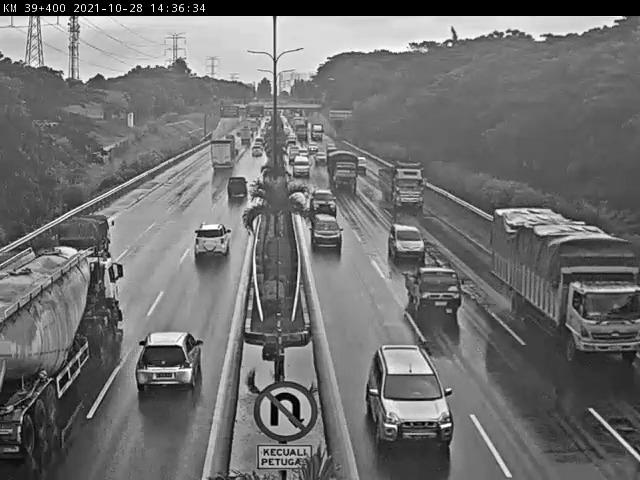big truck: (490, 228, 640, 358), (1, 274, 90, 435), (387, 173, 433, 209), (326, 154, 358, 186), (208, 140, 233, 176)
car: (386, 362, 450, 431), (133, 326, 202, 388), (185, 218, 230, 278), (407, 263, 458, 311), (388, 224, 428, 264), (219, 173, 253, 209), (312, 218, 338, 248), (311, 182, 329, 205), (295, 155, 312, 176), (248, 148, 264, 160)
small truck: (56, 217, 102, 270)
